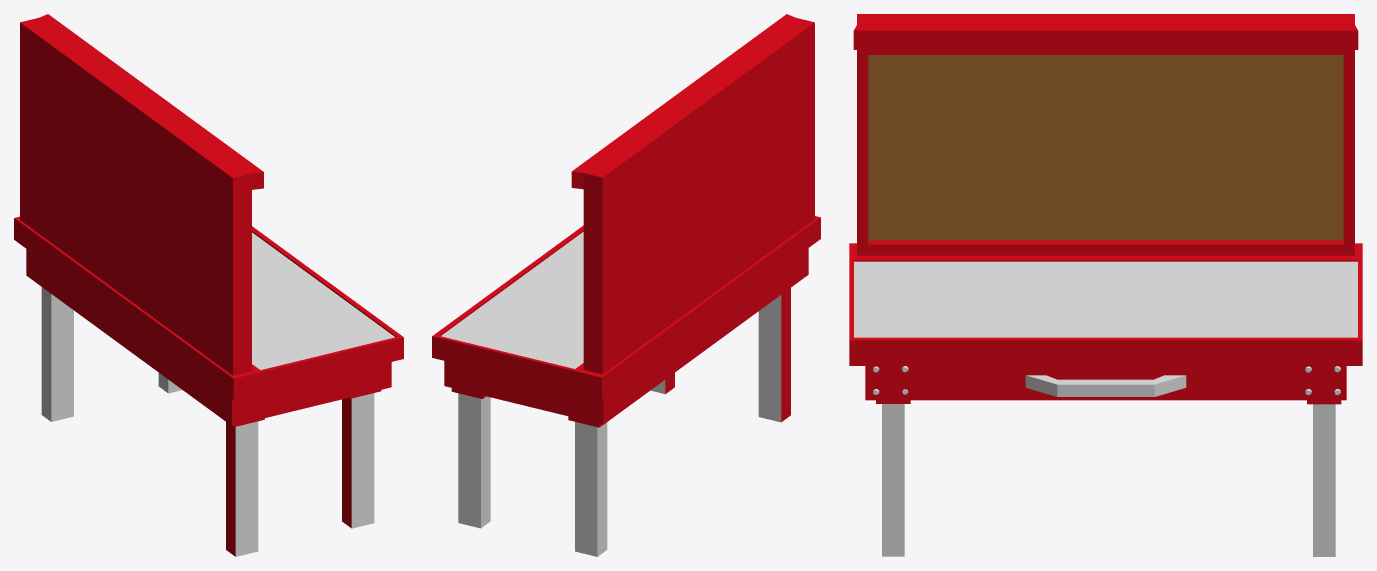
File: Mesa de ferramentas.fbx
3 renders of one model, left to right at view 1: azimuth 30°, elevation 25°; view 2: azimuth 150°, elevation 25°; view 3: azimuth 270°, elevation 25°, orthographic. The views are drawn at different scales.
Visible parts, largest first — view 1: Cube; view 2: Cube; view 3: Cube.
Boxes of the visible parts, bbox=[...] form: Cube: bbox=[14, 14, 403, 556]; Cube: bbox=[432, 14, 820, 556]; Cube: bbox=[849, 14, 1362, 556].
Bounding box in the file's own units: 370 × 761 × 777.
